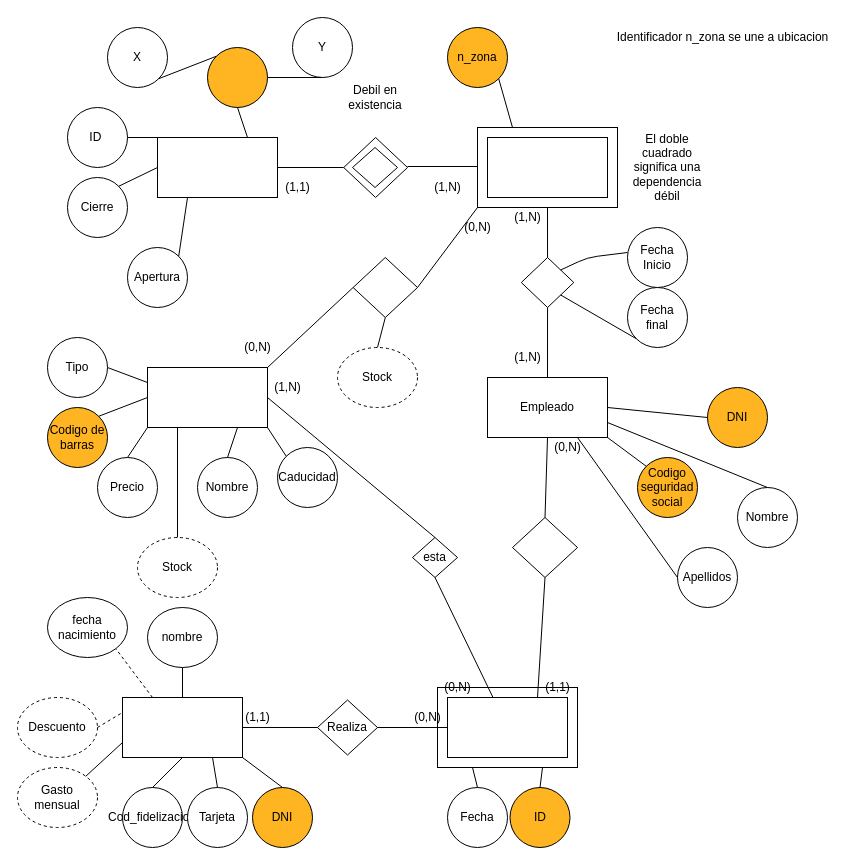
The diagram is 855 pixels wide and 865 high, and some of its shapes have lost their labels. The shapes that lost their labels are listed below. From the top down, each one's box as (x1, y1, x2, y2) in pixels, then its label:
(206, 46, 268, 108): Ubicacion
(156, 136, 278, 198): VIVERO
(486, 136, 608, 198): ZONAS
(352, 256, 418, 318): Asignado
(520, 256, 574, 308): Trabaja
(146, 366, 268, 428): Producto
(512, 516, 578, 578): Controla
(122, 696, 242, 758): Cliente
(446, 696, 568, 758): PEDIDO
